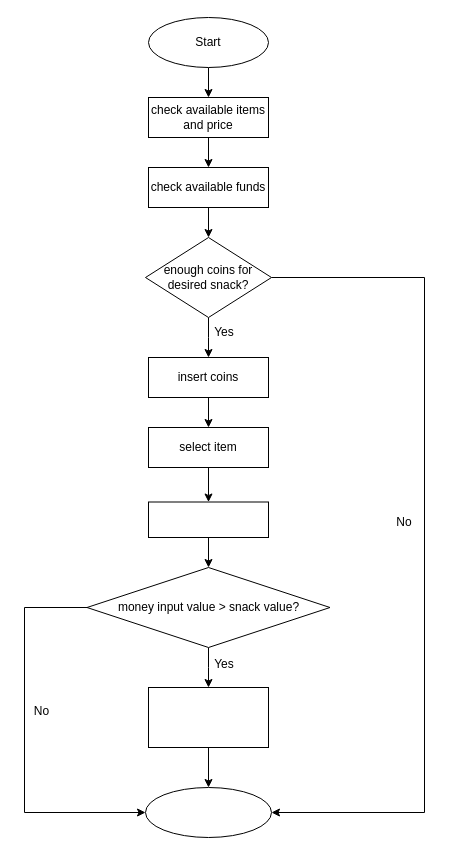
Some shapes in this 452 by 855 pixel diagram are drawn without their labels. Each missing label, with the centre of its shape:
"End" goes at point (208, 812).
"pick up change from the dispenser" goes at point (208, 717).
"pick up the snack from the dispenser" goes at point (208, 519).
